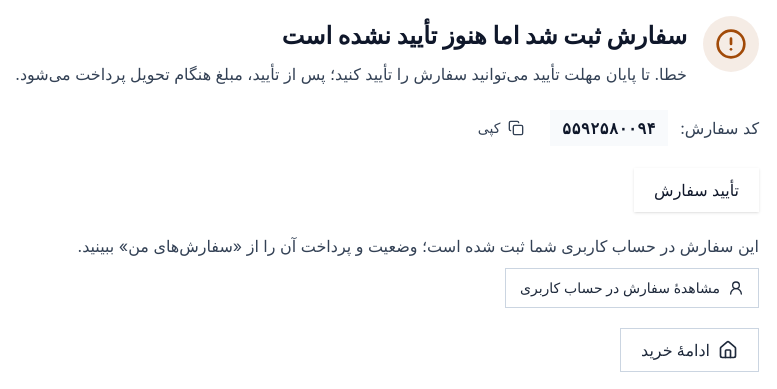
the thanks page’s confirmation and the account’s lists › signed in, confirmed: the orders and the counts are marked stale
Step 1. Click the button "تأیید سفارش" → (697, 190), box [634, 168, 759, 212]
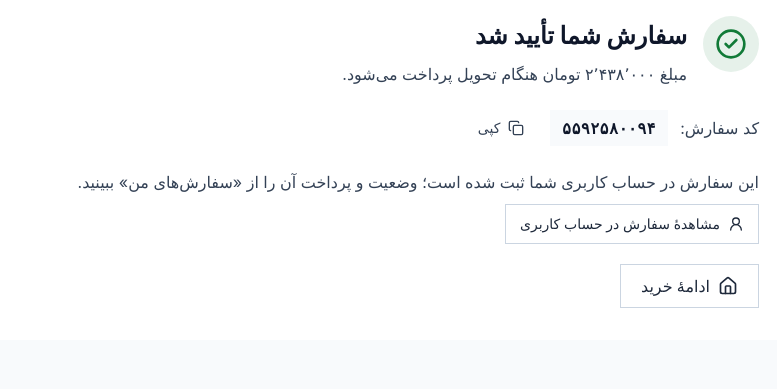
Check: the heading "سفارش شما تأیید شد" is shown, box [475, 21, 687, 50]
